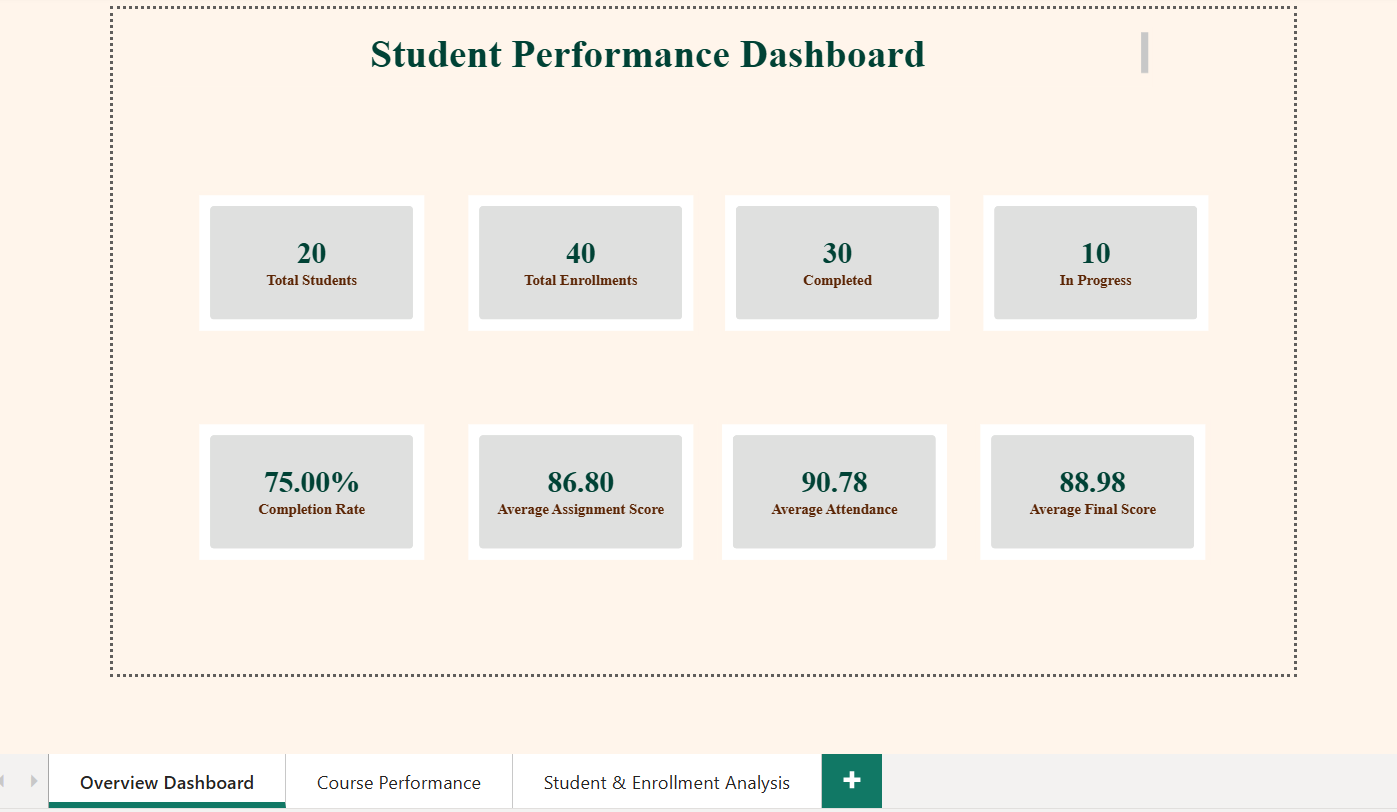

The page's visual inventory and layout, read from the dashboard file:
{"tool":"powerbi","page":{"name":"Overview Dashboard","canvas":[1280,720],"ordinal":0},"visuals":[{"type":"cardVisual","fields":{"Data":["Students.Total Students"]},"box":[87.7,196.9,254.3,157.1],"z":0},{"type":"textbox","box":[40,20,1087.1,64.3],"z":1000},{"type":"cardVisual","fields":{"Data":["Enrollments.Total Enrollments"]},"box":[380.5,196.9,254.3,157.1],"z":1001},{"type":"cardVisual","fields":{"Data":["Enrollments.Completed"]},"box":[657.7,196.9,254.3,157.1],"z":1002},{"type":"cardVisual","fields":{"Data":["Enrollments.In Progress"]},"box":[937.7,196.9,254.3,157.1],"z":1003},{"type":"cardVisual","fields":{"Data":["Enrollments.Completion Rate"]},"box":[88.3,445,254.3,157.1],"z":1004},{"type":"cardVisual","fields":{"Data":["Performance.Average Final Score"]},"box":[935.5,445.1,254.3,157.1],"z":1005},{"type":"cardVisual","fields":{"Data":["Performance.Average Attendance"]},"box":[655.5,445.1,254.3,157.1],"z":1006},{"type":"cardVisual","fields":{"Data":["Performance.Average Assignment Score"]},"box":[380,445,254.3,157.1],"z":1007}]}

Visuals, with their boxes on the page's 1280x720 design canvas (x1, y1, x2, y2). These are canvas units, not pixel positions in the 1397x812 screenshot, which may show the page scaled, cropped or inside an application window:
cardVisual - Students.Total Students: (left=88, top=197, right=342, bottom=354)
textbox: (left=40, top=20, right=1127, bottom=84)
cardVisual - Enrollments.Total Enrollments: (left=380, top=197, right=635, bottom=354)
cardVisual - Enrollments.Completed: (left=658, top=197, right=912, bottom=354)
cardVisual - Enrollments.In Progress: (left=938, top=197, right=1192, bottom=354)
cardVisual - Enrollments.Completion Rate: (left=88, top=445, right=343, bottom=602)
cardVisual - Performance.Average Final Score: (left=936, top=445, right=1190, bottom=602)
cardVisual - Performance.Average Attendance: (left=656, top=445, right=910, bottom=602)
cardVisual - Performance.Average Assignment Score: (left=380, top=445, right=634, bottom=602)
